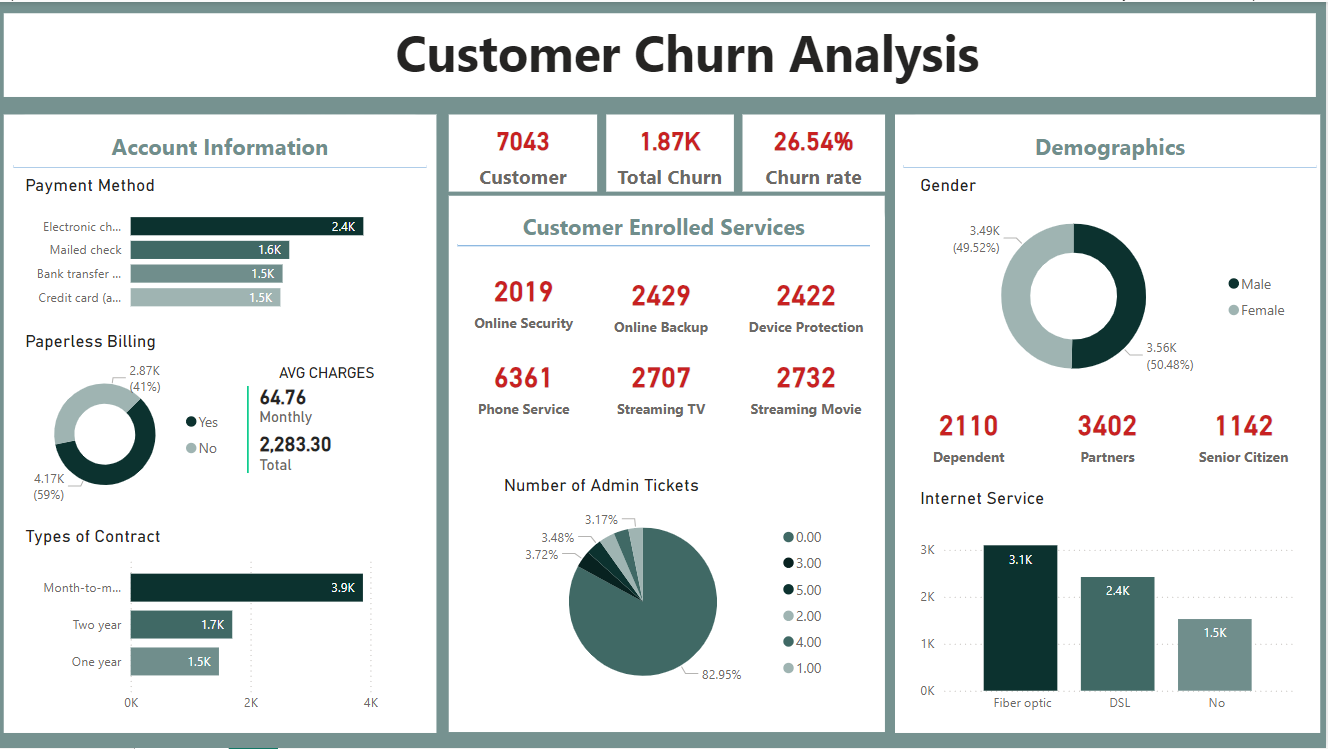

What the dashboard file says about the page in this screenshot:
{"tool":"powerbi","page":{"name":"Page 1","canvas":[1280,720],"ordinal":0},"visuals":[{"type":"shape","box":[3.6,10.9,1266.8,80.8],"z":0},{"type":"shape","box":[863.8,108.6,410.2,597.2],"z":1000,"group":"g3"},{"type":"shape","box":[3.6,108.6,417.4,597.2],"z":2000,"group":"g2"},{"type":"shape","box":[433.1,187,421,517.6],"z":2000,"group":"g4"},{"type":"textbox","box":[258.2,10.9,810.7,80.8],"z":3000},{"type":"card","title":"Customer","fields":{"Values":["CountNonNull(01 Churn-Dataset.customerID)"]},"box":[433.1,108.6,143.6,74.8],"z":4000,"group":"g4"},{"type":"card","title":"Churn","fields":{"Values":["01 Churn-Dataset.Total Churn"]},"box":[585.1,108.6,123.1,74.8],"z":5000,"group":"g4"},{"type":"card","fields":{"Values":["01 Churn-Dataset.Phone yes"]},"box":[444,330.6,123.1,79.6],"z":6000,"group":"g4"},{"type":"clusteredBarChart","title":"Payment Method","fields":{"Category":["01 Churn-Dataset.PaymentMethod"],"Y":["CountNonNull(01 Churn-Dataset.customerID)"]},"box":[19.3,166.5,376.4,142.4],"z":7000,"group":"g2"},{"type":"card","fields":{"Values":["01 Churn-Dataset.Stremeing movies yes"]},"box":[661.1,505.5,117,77.2],"z":7000,"group":"g4"},{"type":"donutChart","title":"Paperless Billing","fields":{"Category":["01 Churn-Dataset.PaperlessBilling"],"Y":["CountNonNull(01 Churn-Dataset.PaperlessBilling)"]},"box":[19.3,317.3,205.1,181],"z":8000,"group":"g2"},{"type":"pieChart","title":"Number of Admin Tickets","fields":{"Category":["01 Churn-Dataset.numAdminTickets"],"Y":["CountNonNull(01 Churn-Dataset.customerID)"]},"box":[481.4,456.1,325.7,226.8],"z":8000,"group":"g4"},{"type":"card","fields":{"Values":["01 Churn-Dataset.Stremeing movies yes"]},"box":[716.6,330.6,123.1,79.6],"z":9000,"group":"g4"},{"type":"multiRowCard","title":"AVG CHARGES","fields":{"Values":["Avg(01 Churn-Dataset.MonthlyCharges)","Avg(01 Churn-Dataset.TotalCharges)"]},"box":[232.8,337.8,162.9,144.8],"z":9000,"group":"g2"},{"type":"card","fields":{"Values":["01 Churn-Dataset.Streming tv yes"]},"box":[576.7,330.6,123.1,79.6],"z":10000,"group":"g4"},{"type":"clusteredBarChart","title":"Types of Contract","fields":{"Category":["01 Churn-Dataset.Contract"],"Y":["CountNonNull(01 Churn-Dataset.customerID)"]},"box":[19.3,505.5,376.4,189.4],"z":10000,"group":"g2"},{"type":"card","fields":{"Values":["01 Churn-Dataset.Onlinebackup yes"]},"box":[576.7,251,123.1,79.6],"z":11000,"group":"g4"},{"type":"card","fields":{"Values":["01 Churn-Dataset.Onlinesecurity yes"]},"box":[444,247.3,123.1,79.6],"z":12000,"group":"g4"},{"type":"card","fields":{"Values":["01 Churn-Dataset.devive prot yes"]},"box":[716.6,251,123.1,79.6],"z":13000,"group":"g4"},{"type":"card","title":"Churn Rate","fields":{"Values":["01 Churn-Dataset.Churn rate"]},"box":[716.6,108.6,137.5,74.8],"z":14000,"group":"g4"},{"type":"donutChart","title":"Gender","fields":{"Category":["01 Churn-Dataset.gender"],"Y":["CountNonNull(01 Churn-Dataset.customerID)"]},"box":[883.1,166.6,371.6,216],"z":14000,"group":"g1"},{"type":"shape","box":[441.5,222,398.1,25.3],"z":15000,"group":"g4"},{"type":"clusteredColumnChart","title":"Internet Service","fields":{"Category":["01 Churn-Dataset.InternetService"],"Y":["CountNonNull(01 Churn-Dataset.customerID)"]},"box":[883.1,468.2,371.6,226.8],"z":15000,"group":"g1"},{"type":"textbox","box":[441.5,196.7,398.1,38.6],"z":16000,"group":"g4"},{"type":"group","id":"g1","title":"Group 1","box":[872.2,119.5,398.1,575.5],"z":17000,"group":"g3"},{"type":"group","id":"g2","title":"Group 2","box":[3.6,108.6,417.4,597.2],"z":18000},{"type":"group","id":"g3","title":"Group 3","box":[863.8,108.6,410.2,597.2],"z":18001},{"type":"group","id":"g4","title":"Group 4","box":[433.1,108.6,421,596],"z":18002},{"type":"card","fields":{"Values":["01 Churn-Dataset.Dependent"]},"box":[873.4,376.5,123.1,79.6],"z":22000,"group":"g1"},{"type":"card","fields":{"Values":["01 Churn-Dataset.Partners"]},"box":[1007.3,376.5,123.1,79.6],"z":23000,"group":"g1"},{"type":"card","fields":{"Values":["01 Churn-Dataset.seniors"]},"box":[1138.8,376.5,123.1,79.6],"z":24000,"group":"g1"},{"type":"shape","box":[13.3,146,398.1,25.3],"z":26000,"group":"g2"},{"type":"shape","box":[872.2,146,398.1,25.3],"z":27000,"group":"g1"},{"type":"textbox","box":[872.2,119.5,398.1,39.8],"z":28000,"group":"g1"},{"type":"textbox","box":[13.3,119.5,398.1,39.8],"z":29000,"group":"g2"}]}

Visuals, with their boxes in screenshot pixels (x1, y1, x2, y2), scaled from the page's 1280x720 canvas onto the 1328x749 screenshot:
shape: [left=4, top=11, right=1318, bottom=95]
shape: [left=896, top=113, right=1322, bottom=734]
shape: [left=4, top=113, right=437, bottom=734]
shape: [left=449, top=195, right=886, bottom=733]
textbox: [left=268, top=11, right=1109, bottom=95]
"Customer" card: [left=449, top=113, right=598, bottom=191]
"Churn" card: [left=607, top=113, right=735, bottom=191]
card - 01 Churn-Dataset.Phone yes: [left=461, top=344, right=588, bottom=427]
"Payment Method" clusteredBarChart: [left=20, top=173, right=411, bottom=321]
card - 01 Churn-Dataset.Stremeing movies yes: [left=686, top=526, right=807, bottom=606]
"Paperless Billing" donutChart: [left=20, top=330, right=233, bottom=518]
"Number of Admin Tickets" pieChart: [left=499, top=474, right=837, bottom=710]
card - 01 Churn-Dataset.Stremeing movies yes: [left=743, top=344, right=871, bottom=427]
"AVG CHARGES" multiRowCard: [left=242, top=351, right=411, bottom=502]
card - 01 Churn-Dataset.Streming tv yes: [left=598, top=344, right=726, bottom=427]
"Types of Contract" clusteredBarChart: [left=20, top=526, right=411, bottom=723]
card - 01 Churn-Dataset.Onlinebackup yes: [left=598, top=261, right=726, bottom=344]
card - 01 Churn-Dataset.Onlinesecurity yes: [left=461, top=257, right=588, bottom=340]
card - 01 Churn-Dataset.devive prot yes: [left=743, top=261, right=871, bottom=344]
"Churn Rate" card: [left=743, top=113, right=886, bottom=191]
"Gender" donutChart: [left=916, top=173, right=1302, bottom=398]
shape: [left=458, top=231, right=871, bottom=257]
"Internet Service" clusteredColumnChart: [left=916, top=487, right=1302, bottom=723]
textbox: [left=458, top=205, right=871, bottom=245]
"Group 1" group: [left=905, top=124, right=1318, bottom=723]
"Group 2" group: [left=4, top=113, right=437, bottom=734]
"Group 3" group: [left=896, top=113, right=1322, bottom=734]
"Group 4" group: [left=449, top=113, right=886, bottom=733]
card - 01 Churn-Dataset.Dependent: [left=906, top=392, right=1034, bottom=474]
card - 01 Churn-Dataset.Partners: [left=1045, top=392, right=1173, bottom=474]
card - 01 Churn-Dataset.seniors: [left=1182, top=392, right=1309, bottom=474]
shape: [left=14, top=152, right=427, bottom=178]
shape: [left=905, top=152, right=1318, bottom=178]
textbox: [left=905, top=124, right=1318, bottom=166]
textbox: [left=14, top=124, right=427, bottom=166]
